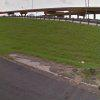Bridge: (2, 2, 99, 20)
